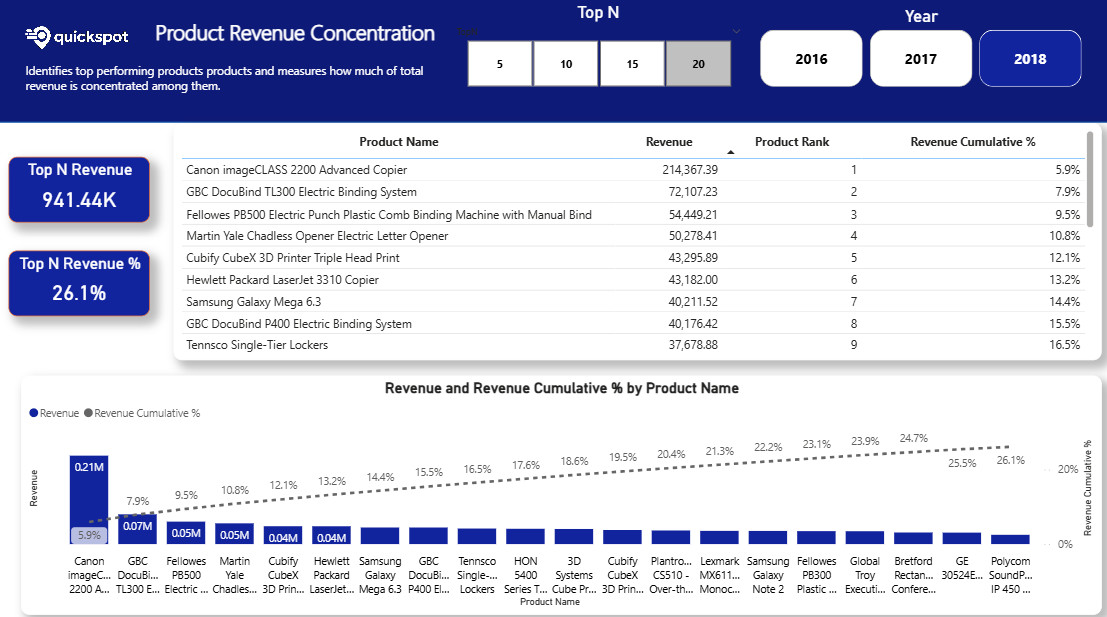

What the dashboard file says about the page in this screenshot:
{"tool":"powerbi","page":{"name":"Product Revenue Concentration","canvas":[1280,720],"ordinal":1},"visuals":[{"type":"card","title":"Top N Revenue","fields":{"Values":["Product Measures.Revenue TopN"]},"box":[20.7,187.7,161.8,75.1],"z":0},{"type":"shape","box":[0,0,1280,148],"z":1000},{"type":"advancedSlicerVisual","fields":{"Values":["Calendar DAX.Year"]},"box":[874.3,15.9,378,96.7],"z":2000},{"type":"textbox","box":[182.9,22.4,577.2,83.3],"z":3000},{"type":"textbox","box":[34.8,74.6,483.9,48.5],"z":4000},{"type":"image","box":[34.8,0,129.4,104.5],"z":5000},{"type":"slicer","title":"Top N","fields":{"Values":["TopN.TopN"]},"box":[518.7,11.2,350.8,102],"z":6000},{"type":"tableEx","fields":{"Values":["Product.Product Name","Measures_.Revenue","Product Measures.Product Rank","Product Measures.Revenue Cumulative %"]},"box":[209,148,1061.1,271.2],"z":7000},{"type":"lineClusteredColumnComboChart","fields":{"Category":["Product.Product Name"],"Y":["Measures_.Revenue"],"Y2":["Product Measures.Revenue Cumulative %"]},"box":[34.8,436.6,1235.3,273.7],"z":8000},{"type":"card","title":"Top N Revenue % ","fields":{"Values":["Product Measures.% Revenue TopN"]},"box":[20.7,293.8,161.8,75.1],"z":9000}]}

Visuals, with their boxes in screenshot pixels (x1, y1, x2, y2), scaled from the page's 1280x720 canvas onto the 1107x617 screenshot:
"Top N Revenue" card: x1=18 y1=161 x2=158 y2=225
shape: x1=0 y1=0 x2=1106 y2=127
advancedSlicerVisual - Calendar DAX.Year: x1=756 y1=14 x2=1083 y2=96
textbox: x1=158 y1=19 x2=657 y2=91
textbox: x1=30 y1=64 x2=449 y2=105
image: x1=30 y1=0 x2=142 y2=90
"Top N" slicer: x1=449 y1=10 x2=752 y2=97
tableEx - Product.Product Name x Measures_.Revenue: x1=181 y1=127 x2=1098 y2=359
lineClusteredColumnComboChart - Product.Product Name x Measures_.Revenue: x1=30 y1=374 x2=1098 y2=609
"Top N Revenue % " card: x1=18 y1=252 x2=158 y2=316
